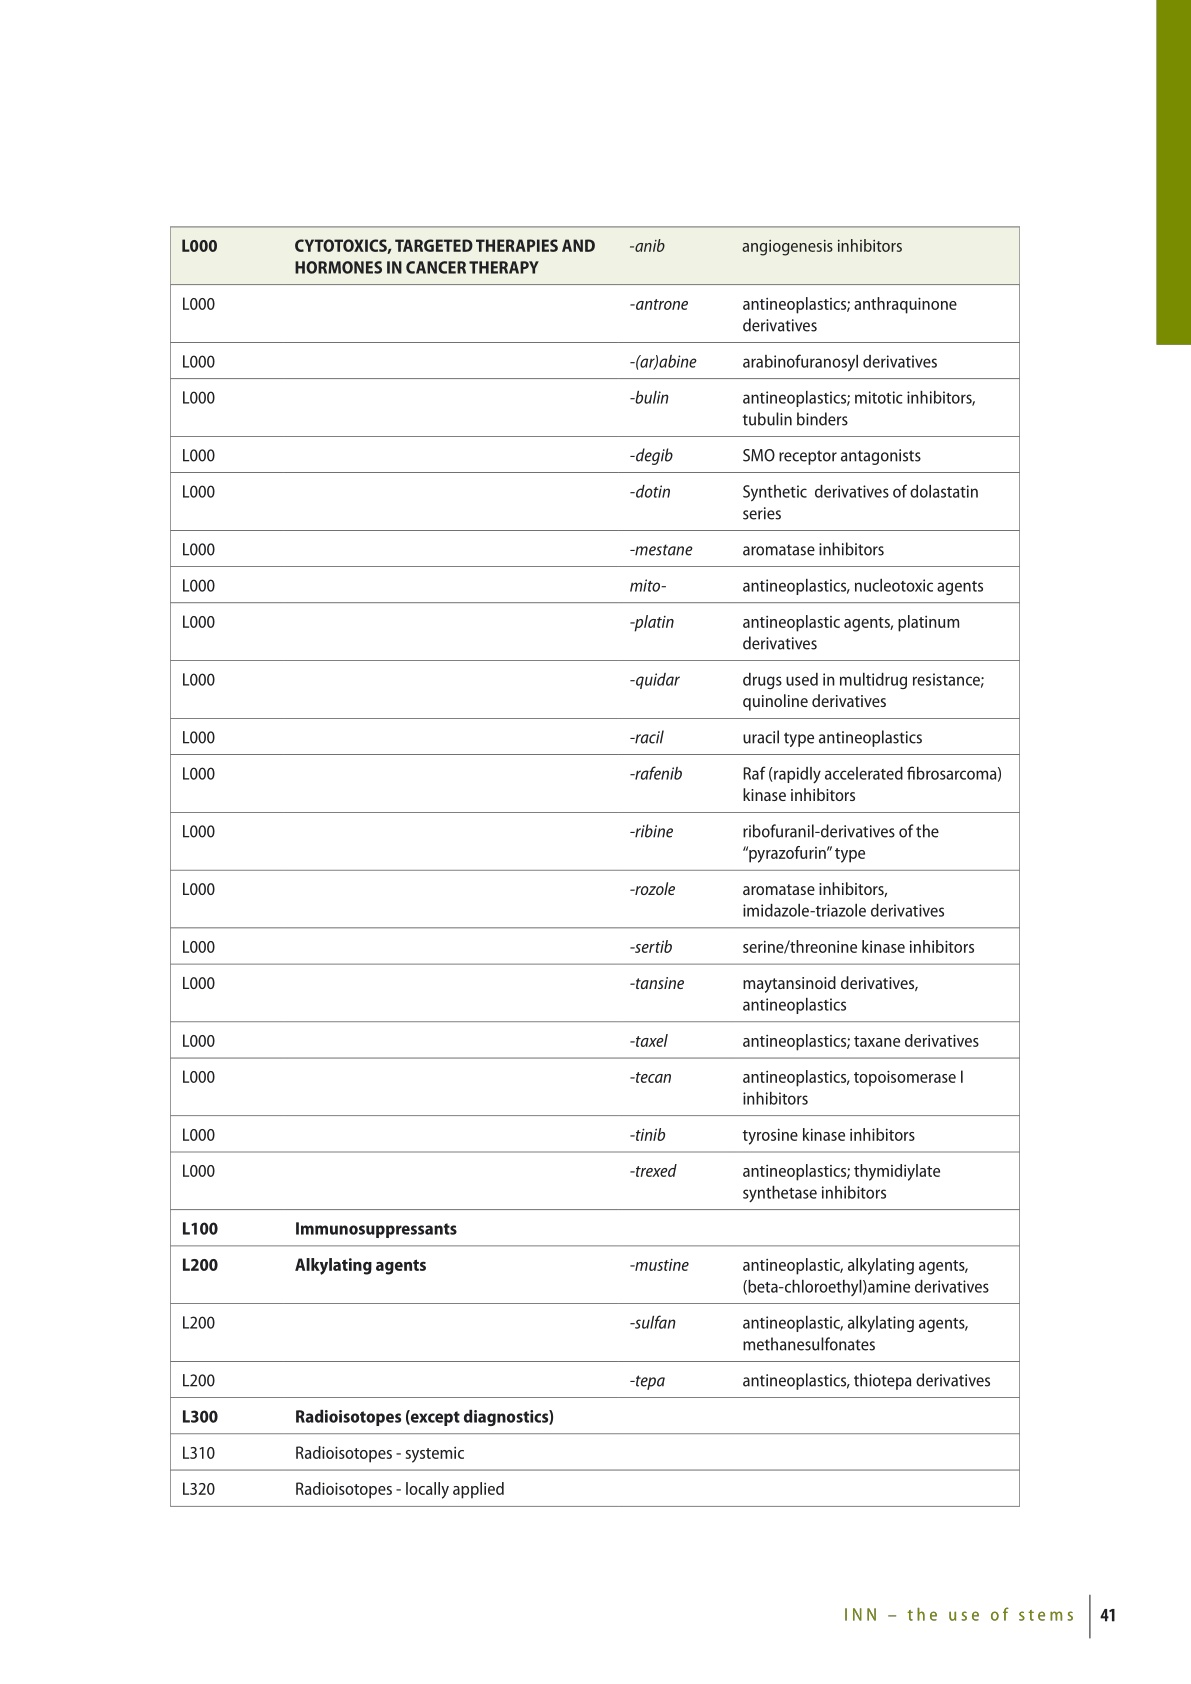partial_lined: (170, 225, 1020, 1507)
